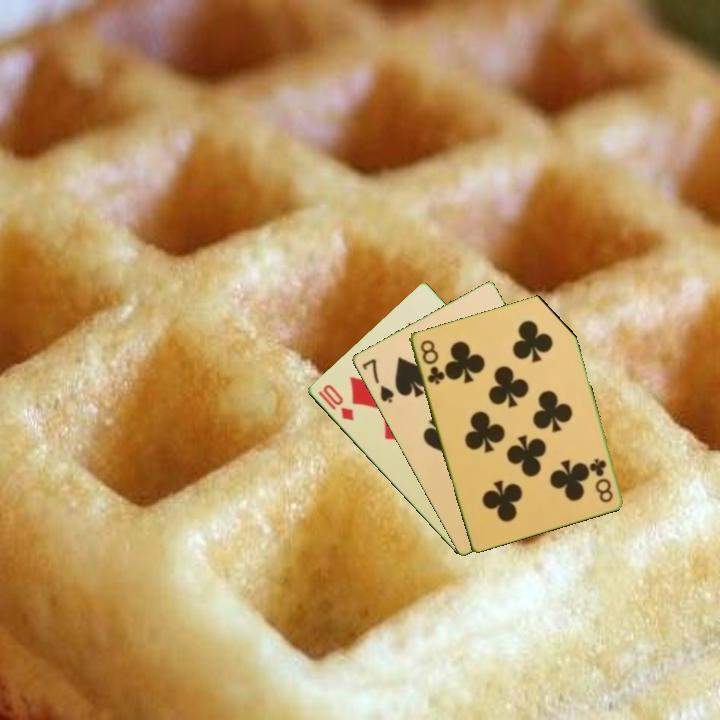10d: (314, 380, 357, 424)
7s: (358, 355, 396, 406)
8c: (416, 336, 447, 387), (587, 454, 616, 505)
